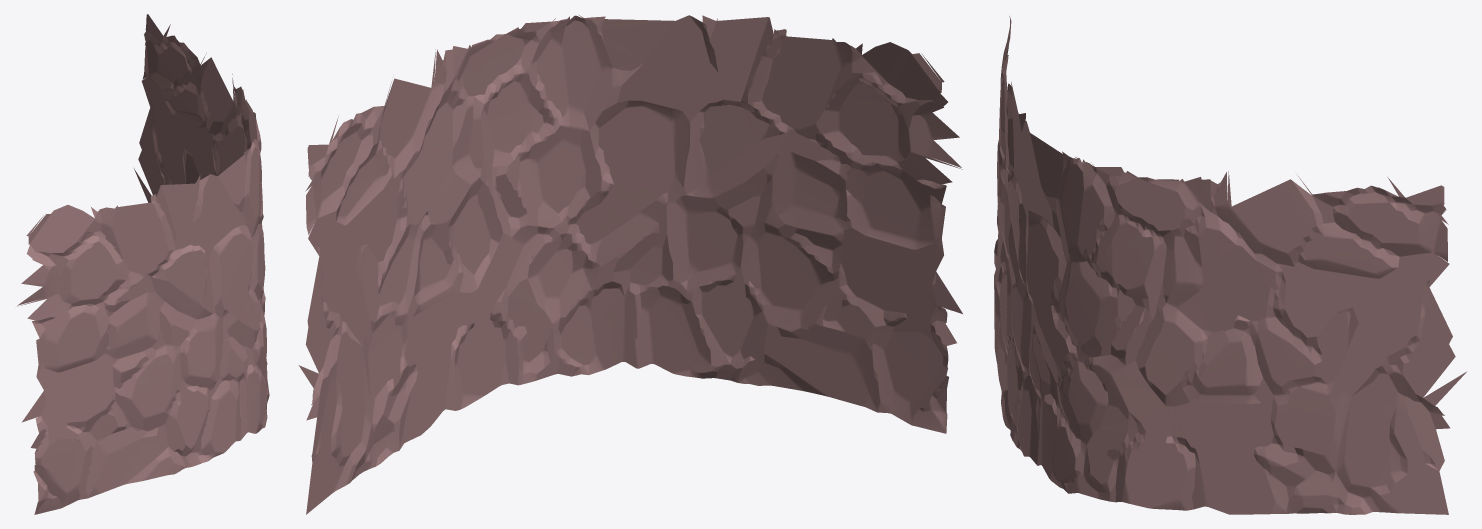
The model's file is mini_canyon.fbx_Cube__12__012LODs.fbx.
The picture shows the model from 3 angles, left to right: view 1: azimuth 30°, elevation 25°; view 2: azimuth 150°, elevation 25°; view 3: azimuth 270°, elevation 25°; orthographic projection. The views are drawn at different scales.
Parts seen in each view (by area): view 1: Cube (12).012_LOD0; view 2: Cube (12).012_LOD0; view 3: Cube (12).012_LOD0.
Boxes of the visible parts, box(x1,y1,x2,y2) form: Cube (12).012_LOD0: box(17, 14, 269, 514); Cube (12).012_LOD0: box(298, 14, 962, 514); Cube (12).012_LOD0: box(994, 16, 1466, 514).
Size of what is drawn, in the model's own units: 5247 by 4670 by 5752.
